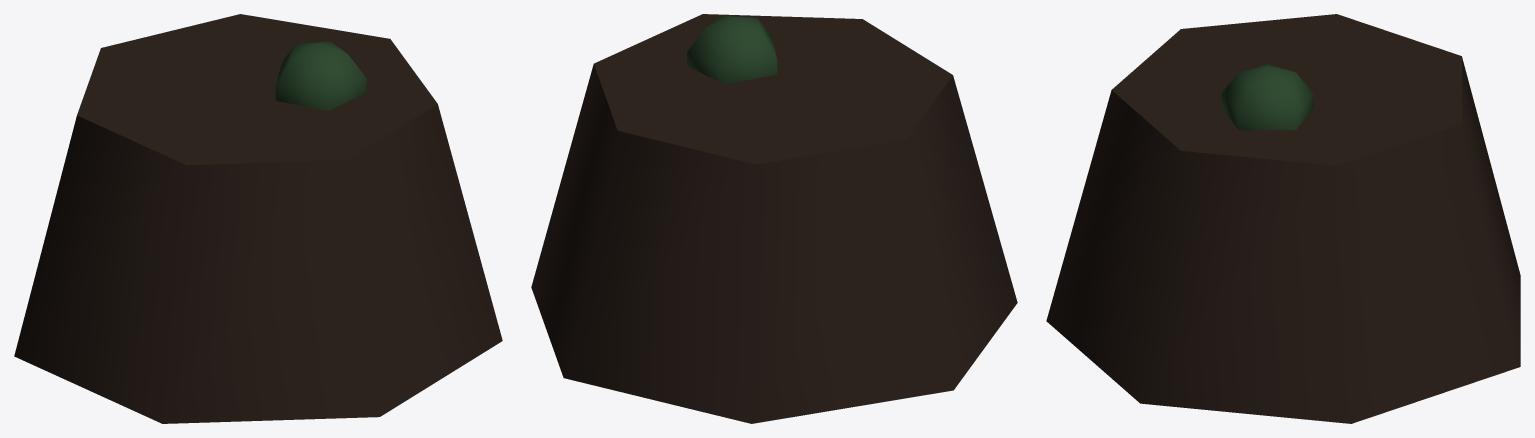
Rendered from tree_stump.glb.
3 views of the same model, side by side, from view 1: azimuth 30°, elevation 25°; view 2: azimuth 150°, elevation 25°; view 3: azimuth 270°, elevation 25° (orthographic).
Bounding box in the file's own units: 1.72 × 1.08 × 1.67.
